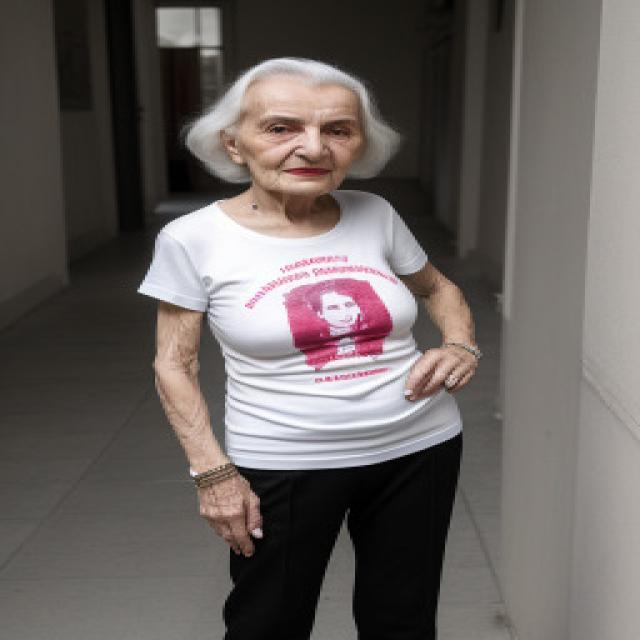Ai human 2: (135, 45, 495, 640)
